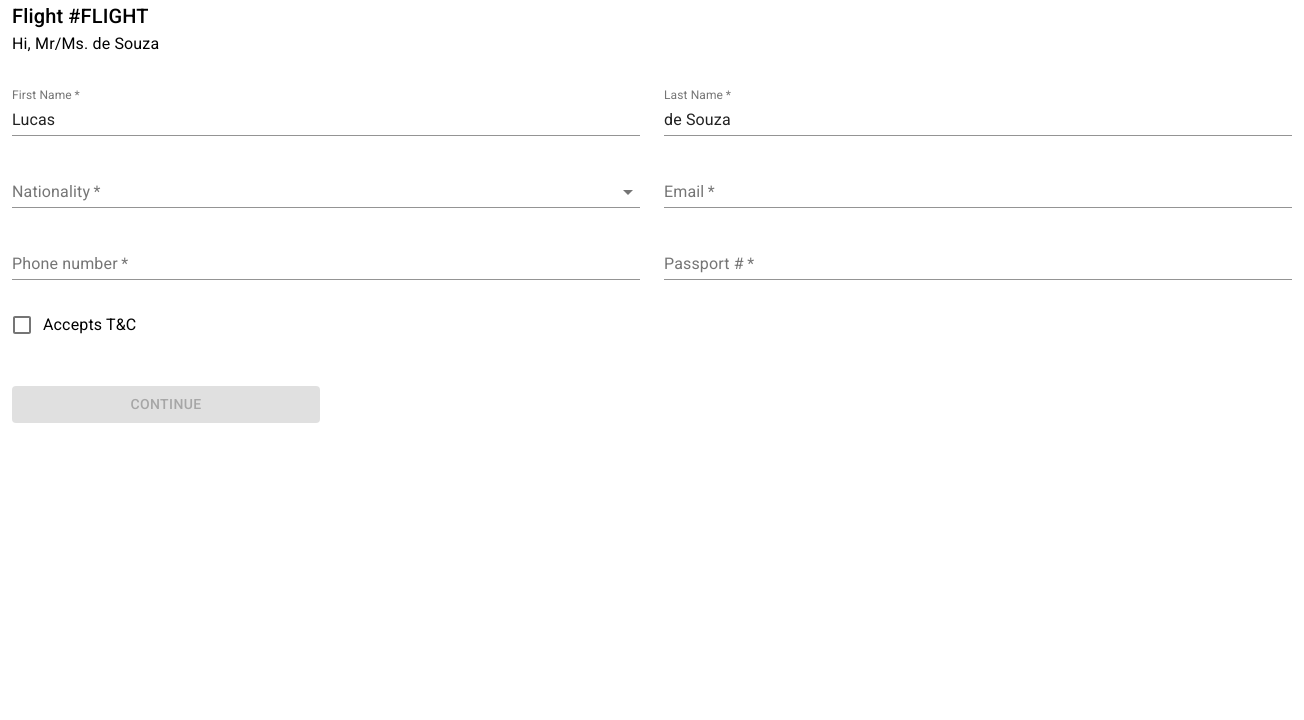
it: User Info form › should display Austria extra fields
The width and height of the screenshot is (1304, 720).
Select "Austria" in the dropdown with test id "nationality": (326, 192) [12,176,640,208]
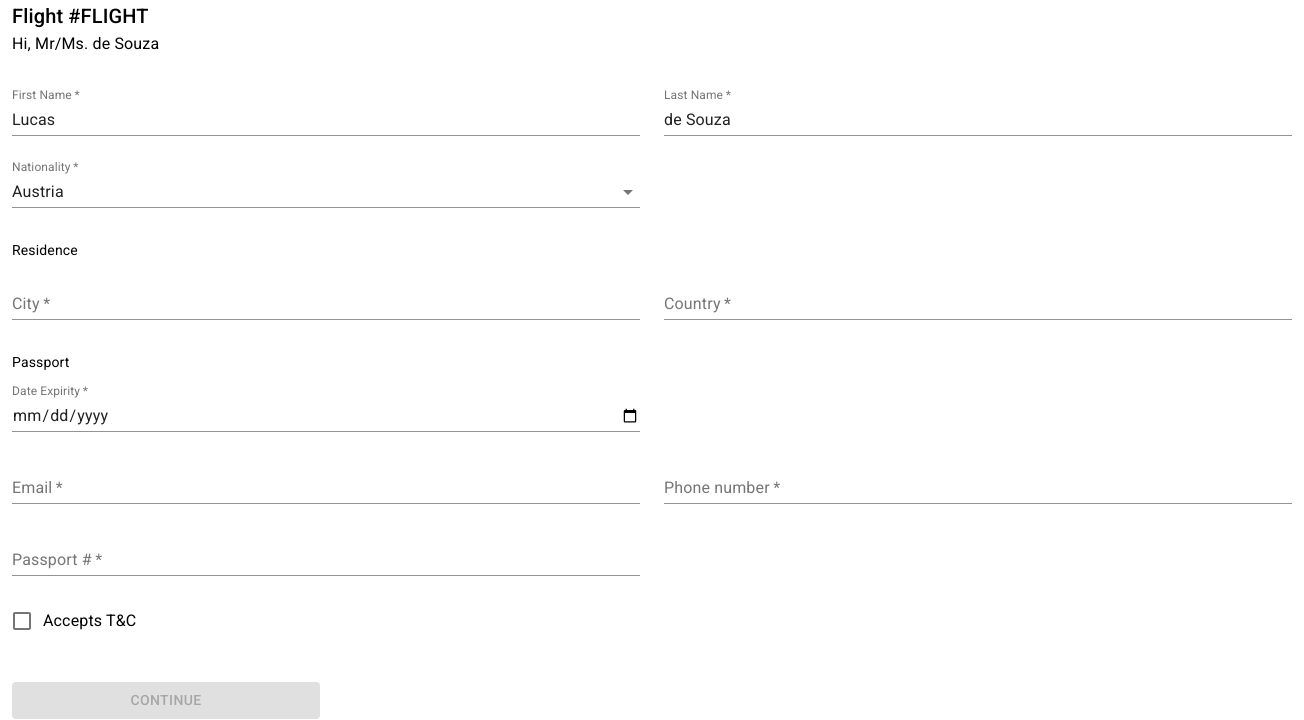
Expected: the field with test id "residenceCountry" is shown, [664,288,1292,320]
Expected: the field with test id "residenceCity" is shown, [12,288,640,320]
Expected: the date field with test id "passportExpirity" is shown, [12,400,640,432]
